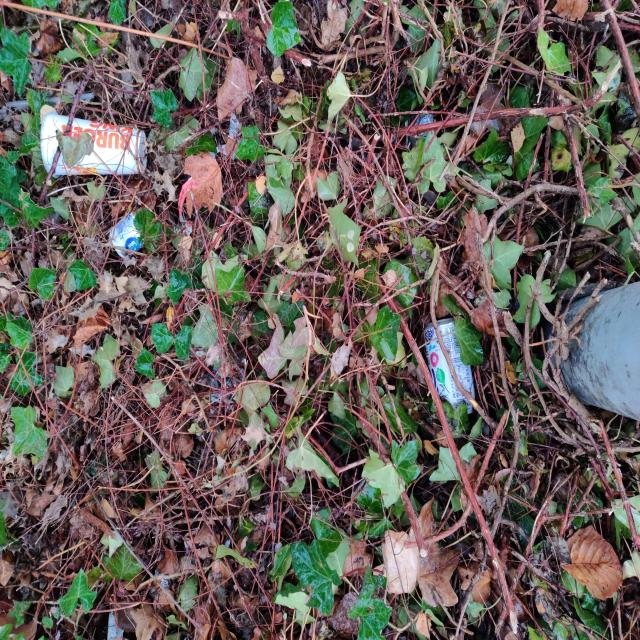litter: (39, 109, 149, 180), (424, 316, 478, 421), (106, 206, 150, 259)
